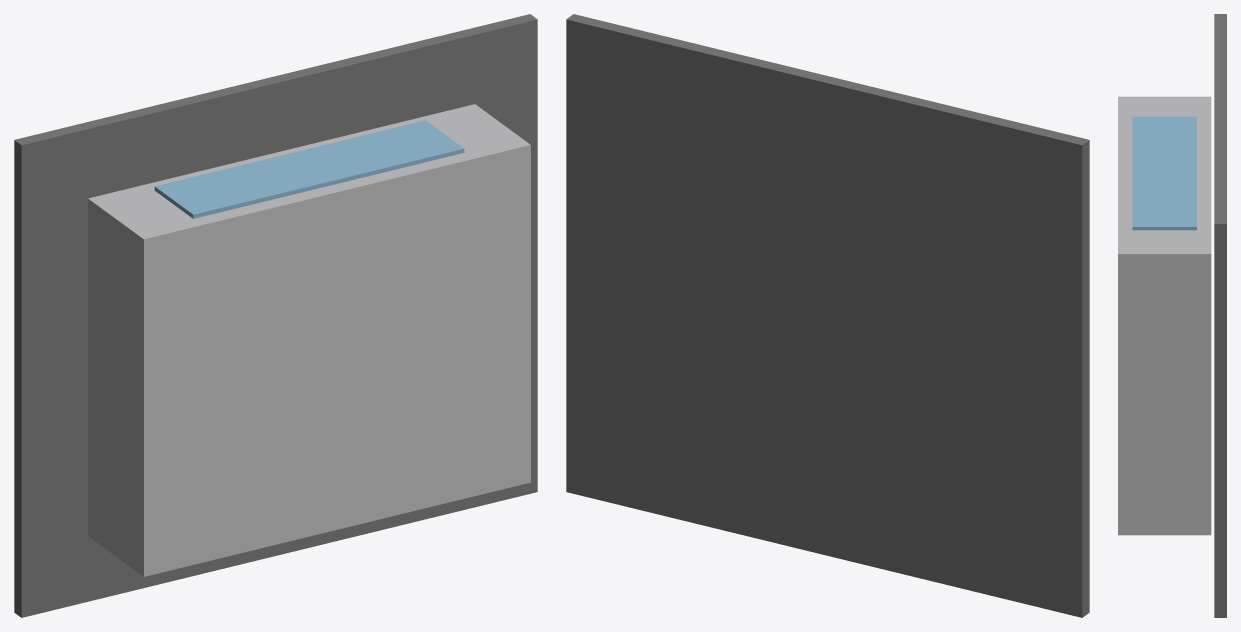
The picture shows the model from 3 angles, left to right: view 1: azimuth 30°, elevation 25°; view 2: azimuth 150°, elevation 25°; view 3: azimuth 270°, elevation 25°; orthographic projection. The views are drawn at different scales.
Parts seen in each view (by area): view 1: geometry_1, geometry_0, geometry_2; view 2: geometry_0; view 3: geometry_1, geometry_0, geometry_2.
Part boxes in pixels (bbox=[...]): geometry_1: bbox=[88, 104, 530, 576]; geometry_0: bbox=[14, 14, 537, 617]; geometry_2: bbox=[154, 120, 464, 218]; geometry_0: bbox=[566, 14, 1089, 617]; geometry_1: bbox=[1118, 96, 1211, 535]; geometry_0: bbox=[1214, 14, 1226, 617]; geometry_2: bbox=[1132, 116, 1196, 230].
Bounding box in the file's own units: 16 × 14 × 3.5.
